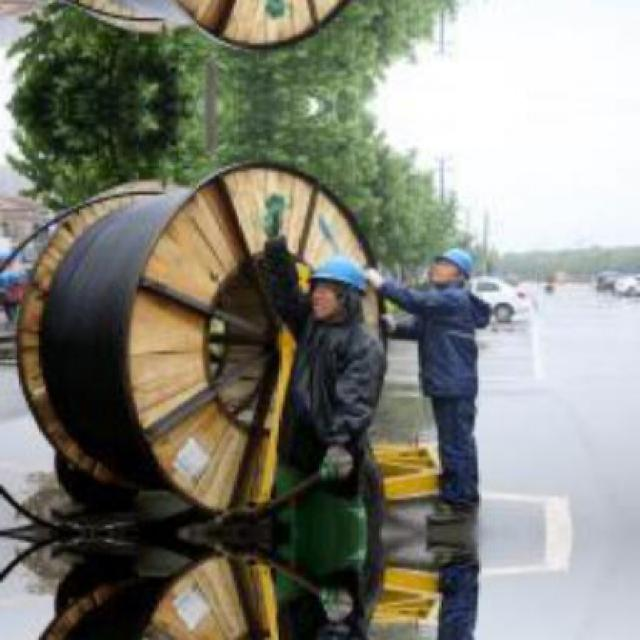helmet: (303, 250, 374, 331), (426, 247, 477, 288)
